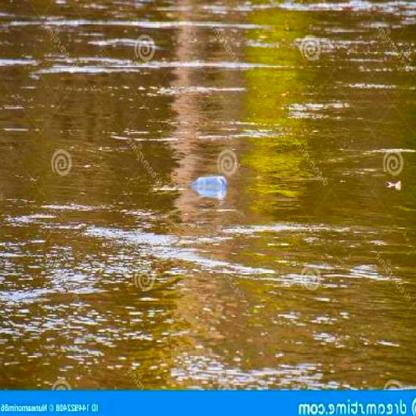plastic bottle: (189, 175, 228, 189)
